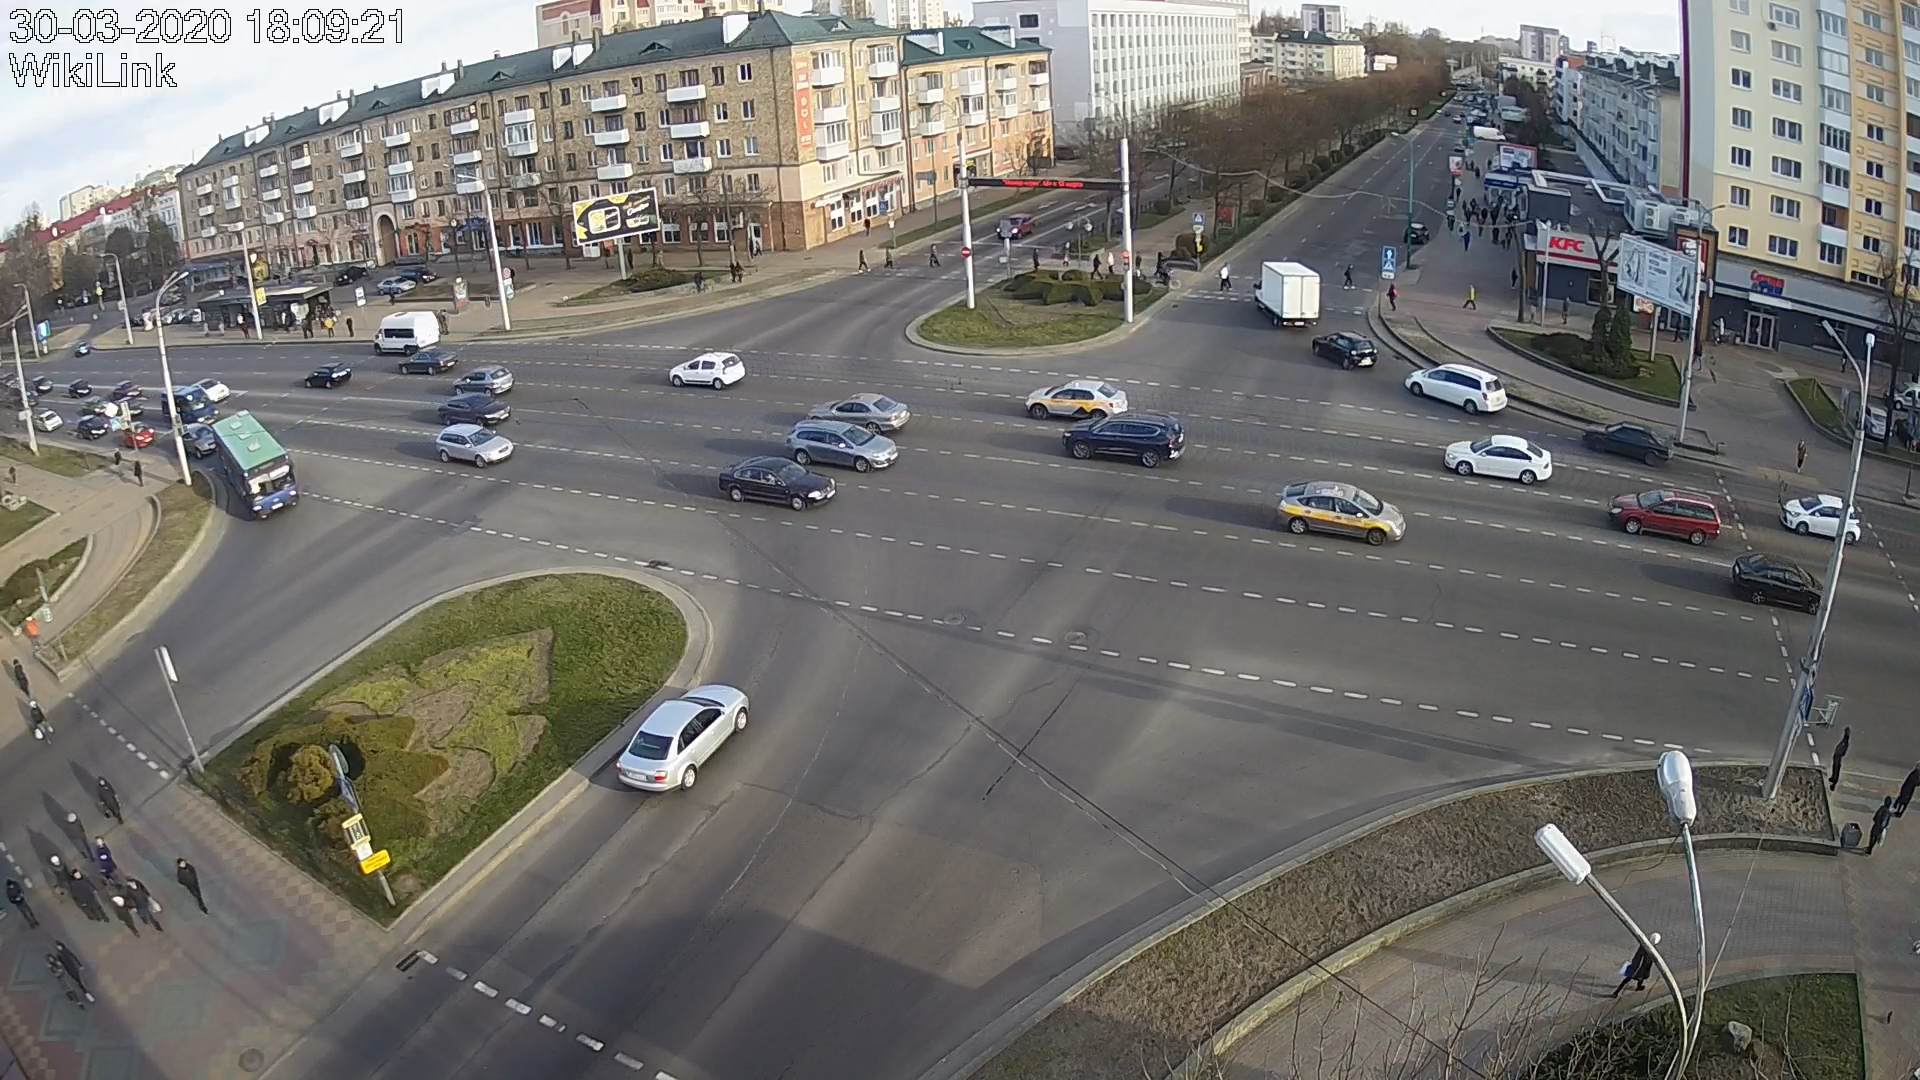bus: (212, 409, 301, 521)
car: (615, 684, 752, 794), (1276, 479, 1406, 547), (1062, 411, 1185, 468), (717, 455, 836, 512), (1607, 488, 1721, 546), (787, 417, 899, 471), (1443, 434, 1553, 487), (1731, 553, 1822, 615), (1404, 364, 1509, 415), (1253, 260, 1320, 328), (1581, 421, 1676, 467), (1023, 380, 1129, 421), (1778, 495, 1863, 545), (807, 392, 910, 433), (435, 422, 514, 468), (669, 349, 746, 392), (375, 311, 440, 356), (436, 392, 512, 427), (1312, 331, 1378, 371), (164, 384, 219, 426), (454, 364, 516, 398), (398, 347, 459, 376), (175, 421, 216, 458), (305, 363, 353, 389), (996, 212, 1038, 240), (193, 377, 229, 404)
